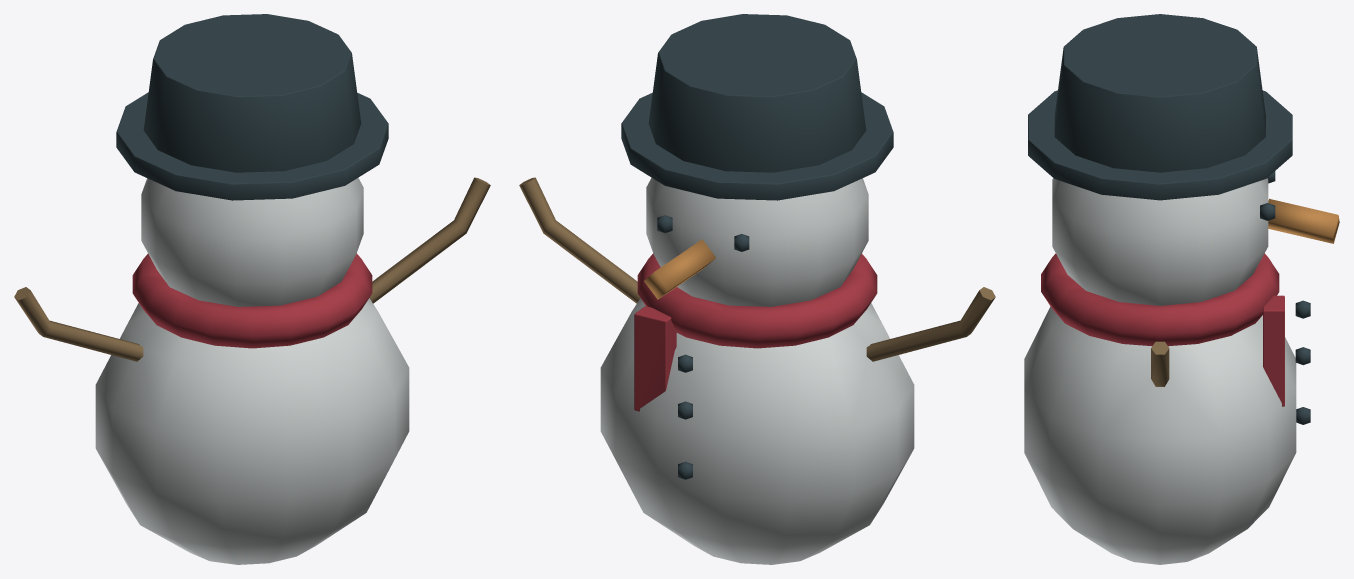
Rendered from snowman_classic.glb.
3 views of the same model, side by side, from view 1: azimuth 30°, elevation 25°; view 2: azimuth 150°, elevation 25°; view 3: azimuth 270°, elevation 25° (orthographic).
Bounding box in the file's own units: 1.48 × 1.49 × 0.86.
